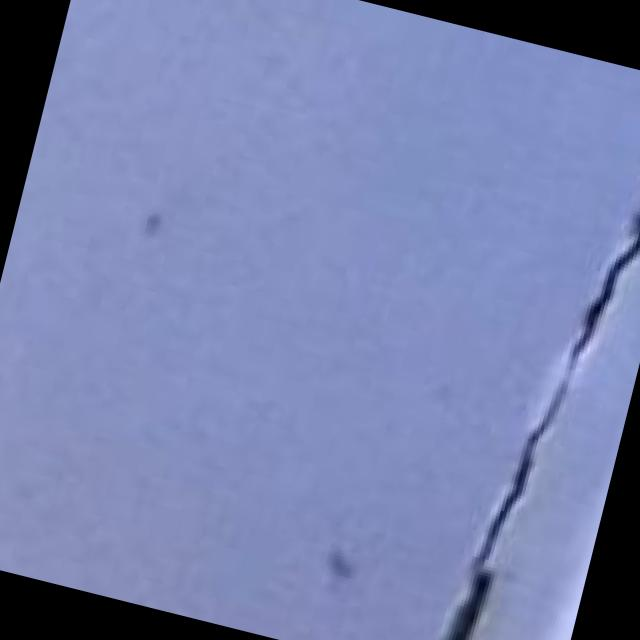crack: (370, 41, 640, 640)
